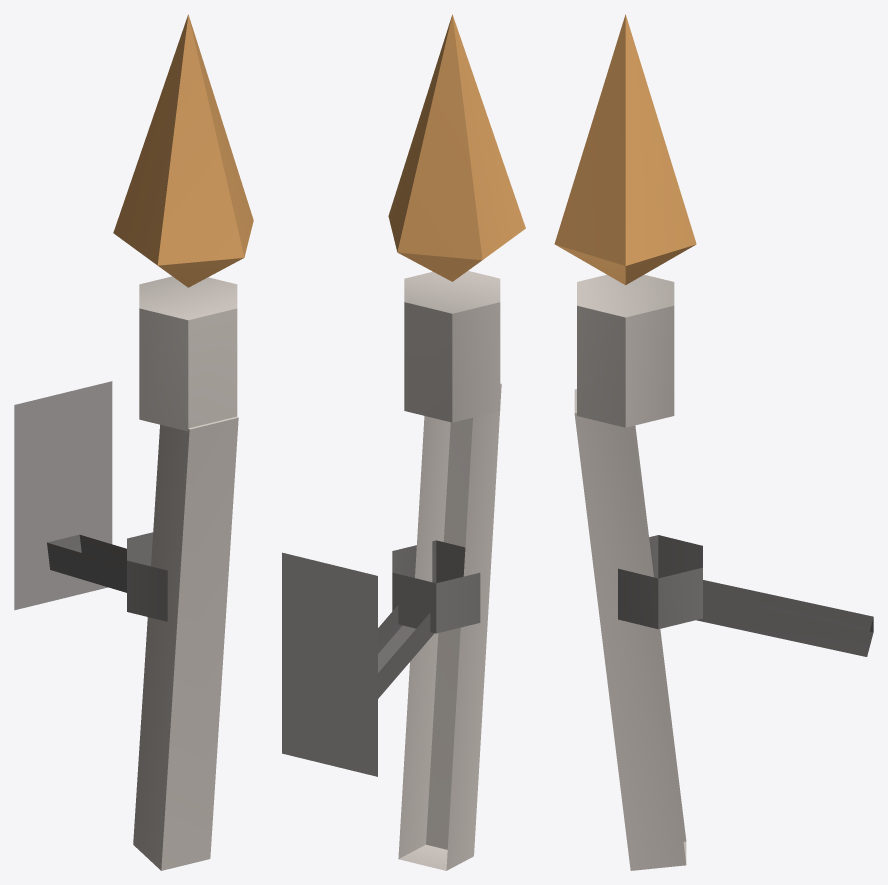
File: grav_fakkel.glb
The picture shows the model from 3 angles, left to right: view 1: azimuth 30°, elevation 25°; view 2: azimuth 150°, elevation 25°; view 3: azimuth 270°, elevation 25°; orthographic projection. The views are drawn at different scales.
Parts seen in each view (by area): view 1: far; view 2: far; view 3: far.
Boxes of the visible parts, x1,y1,x2,y2 form: far: (14, 14, 253, 870); far: (282, 14, 525, 870); far: (554, 14, 873, 870).
Bounding box in the file's own units: 0.1447 × 0.9966 × 0.3411.
